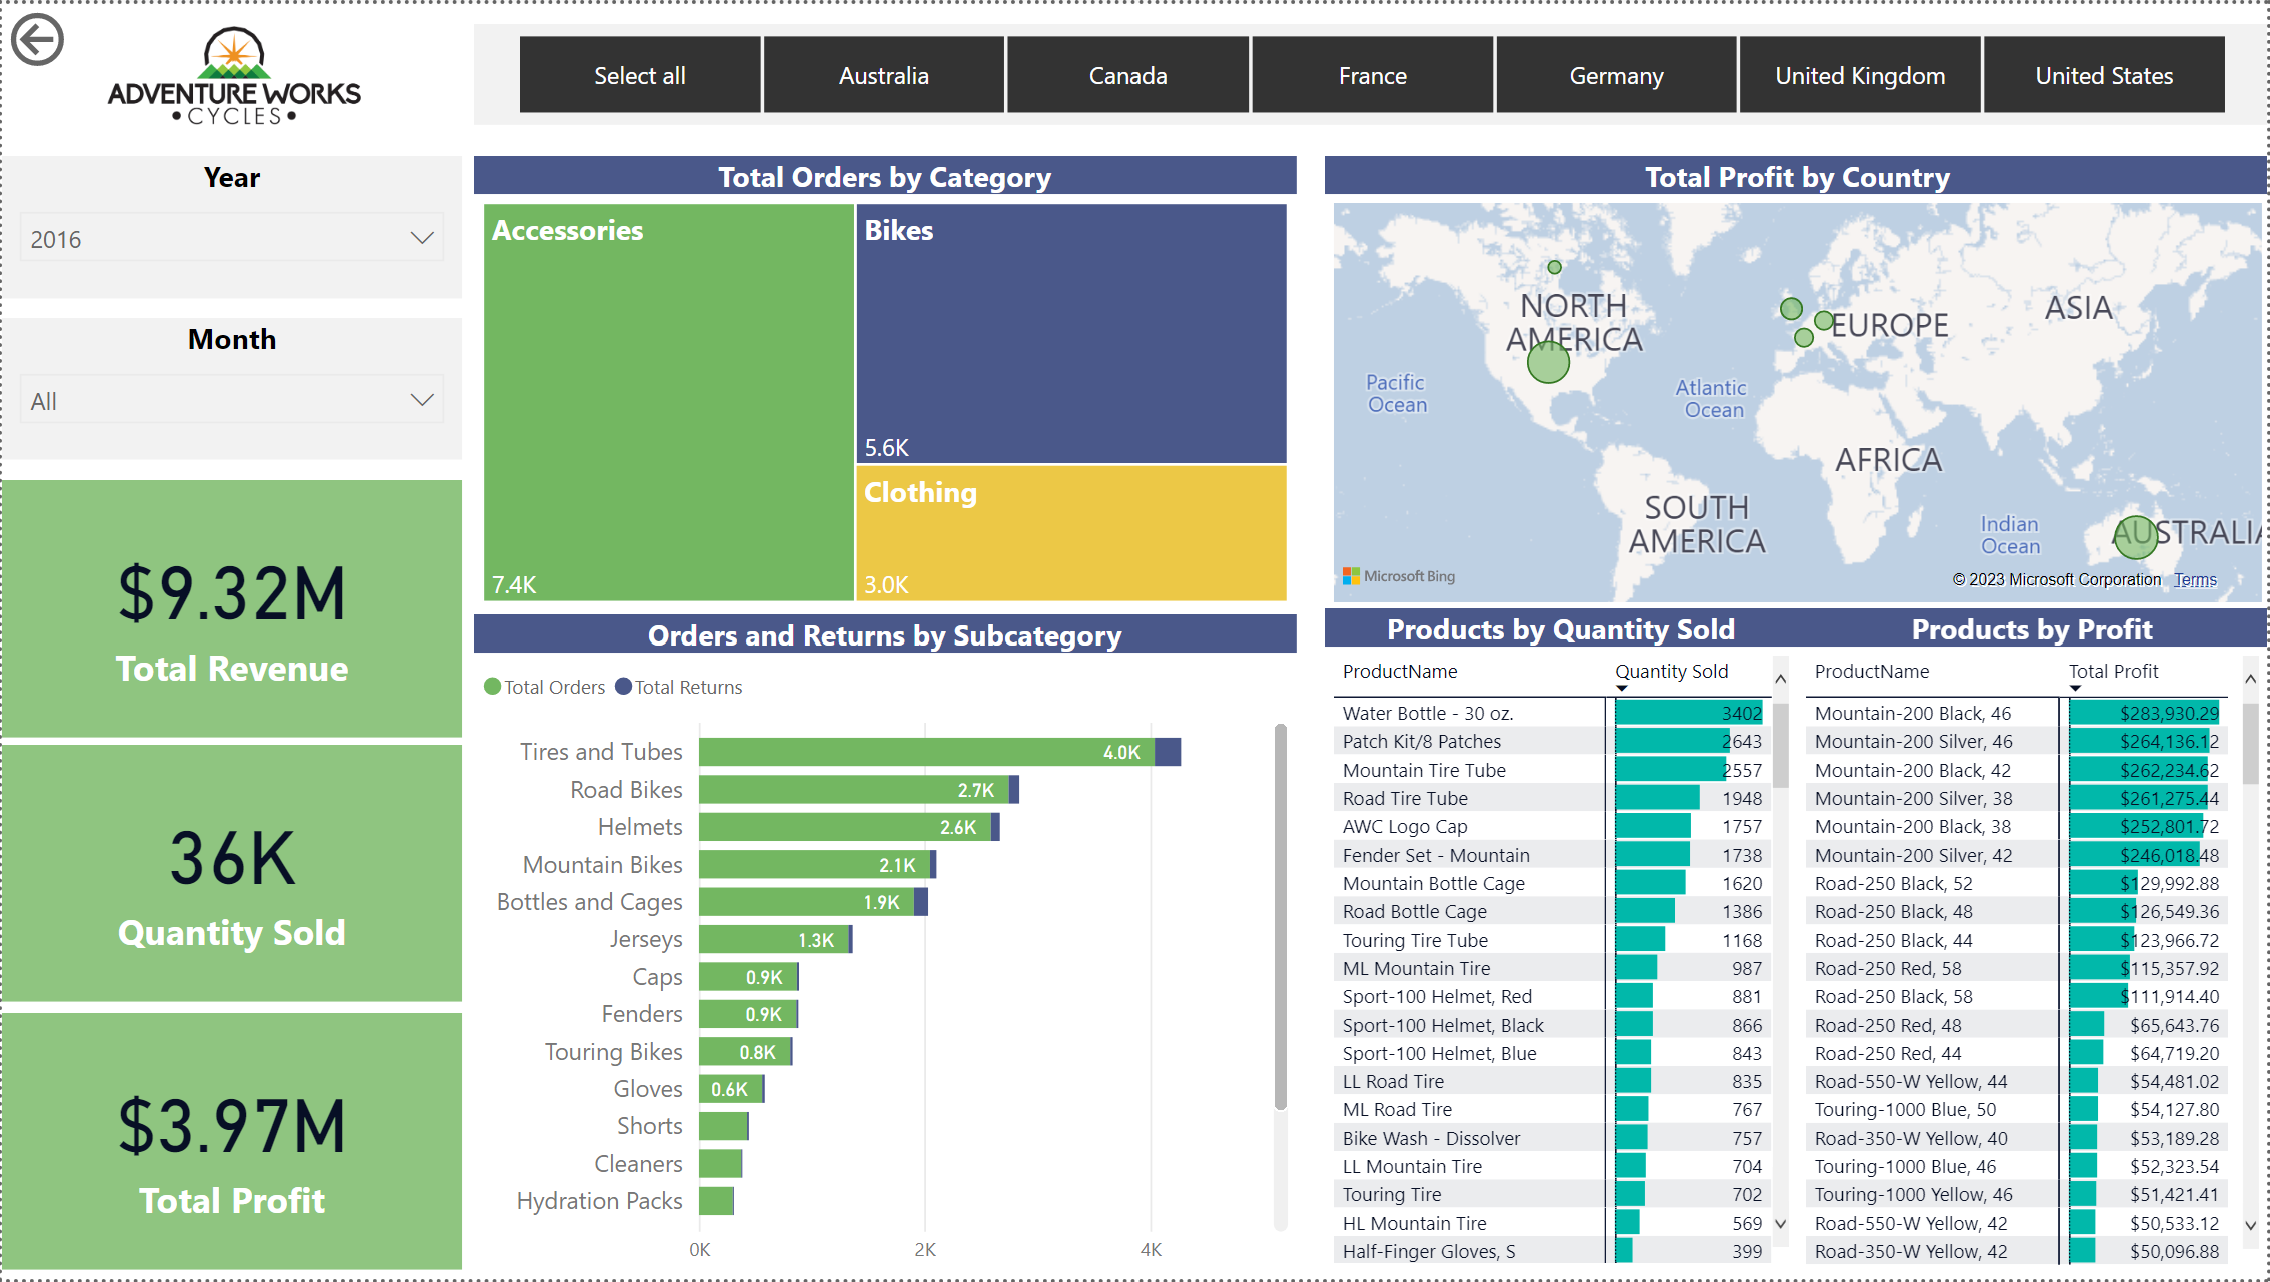

The page's visual inventory and layout, read from the dashboard file:
{"tool":"powerbi","page":{"name":"Excutive Summary","canvas":[1280,720],"ordinal":0},"visuals":[{"type":"image","box":[0,2.9,261.8,74.2],"z":0},{"type":"treemap","title":"Total Orders by Category","fields":{"Group":["AW_Product_Category_Lookup.CategoryName"],"Values":["AW_Sales.Total Orders"]},"box":[267.1,85.7,464.3,257.1],"z":1000},{"type":"actionButton","box":[0,0,100,40],"z":2000},{"type":"card","fields":{"Values":["AW_Sales.Total Revenue"]},"box":[0,268.6,260,145],"z":3000},{"type":"card","fields":{"Values":["AW_Sales.Quantity Sold"]},"box":[0,418.6,260,145],"z":4000},{"type":"slicer","title":"Year","fields":{"Values":["AW_Calendar_Lookup.Year"]},"box":[0,85.7,260,80],"z":5000},{"type":"slicer","title":"Month","fields":{"Values":["AW_Calendar_Lookup.Month Name"]},"box":[0,177.1,260,80],"z":6000},{"type":"slicer","title":"Country","fields":{"Values":["AW_Territories_Lookup.Country"]},"box":[267.1,11.4,1012.9,57.1],"z":7000},{"type":"card","fields":{"Values":["AW_Sales.Total Profit"]},"box":[0,570,260,145],"z":8000},{"type":"barChart","title":"Orders and Returns by Subcategory","fields":{"Y":["AW_Sales.Total Orders","AW_Returns.Total Returns"],"Category":["AW_Product_Subcategory_Lookup.SubcategoryName"]},"box":[267.1,344.3,464.3,375.7],"z":9000},{"type":"map","title":"Total Profit by Country","fields":{"Category":["AW_Territories_Lookup.Country"],"Size":["AW_Sales.Total Profit"]},"box":[747.1,85.7,534.3,257.1],"z":10000},{"type":"pivotTable","title":"Products by Quantity Sold","fields":{"Rows":["AW_Product_Lookup.ProductName"],"Values":["AW_Sales.Quantity Sold"]},"box":[747.1,341.4,267.1,374.3],"z":11000},{"type":"pivotTable","title":"Products by Profit","fields":{"Rows":["AW_Product_Lookup.ProductName"],"Values":["AW_Sales.Total Profit"]},"box":[1014,341.3,266,375.5],"z":12000}]}

Visuals, with their boxes in screenshot pixels (x1, y1, x2, y2), scaled from the page's 1280x720 canvas onto the 2270x1282 screenshot:
image: 0 5 464 137
"Total Orders by Category" treemap: 474 153 1297 610
actionButton: 0 0 177 71
card - AW_Sales.Total Revenue: 0 478 461 736
card - AW_Sales.Quantity Sold: 0 745 461 1004
"Year" slicer: 0 153 461 295
"Month" slicer: 0 315 461 458
"Country" slicer: 474 20 2269 122
card - AW_Sales.Total Profit: 0 1015 461 1273
"Orders and Returns by Subcategory" barChart: 474 613 1297 1281
"Total Profit by Country" map: 1325 153 2269 610
"Products by Quantity Sold" pivotTable: 1325 608 1799 1274
"Products by Profit" pivotTable: 1798 608 2269 1276
